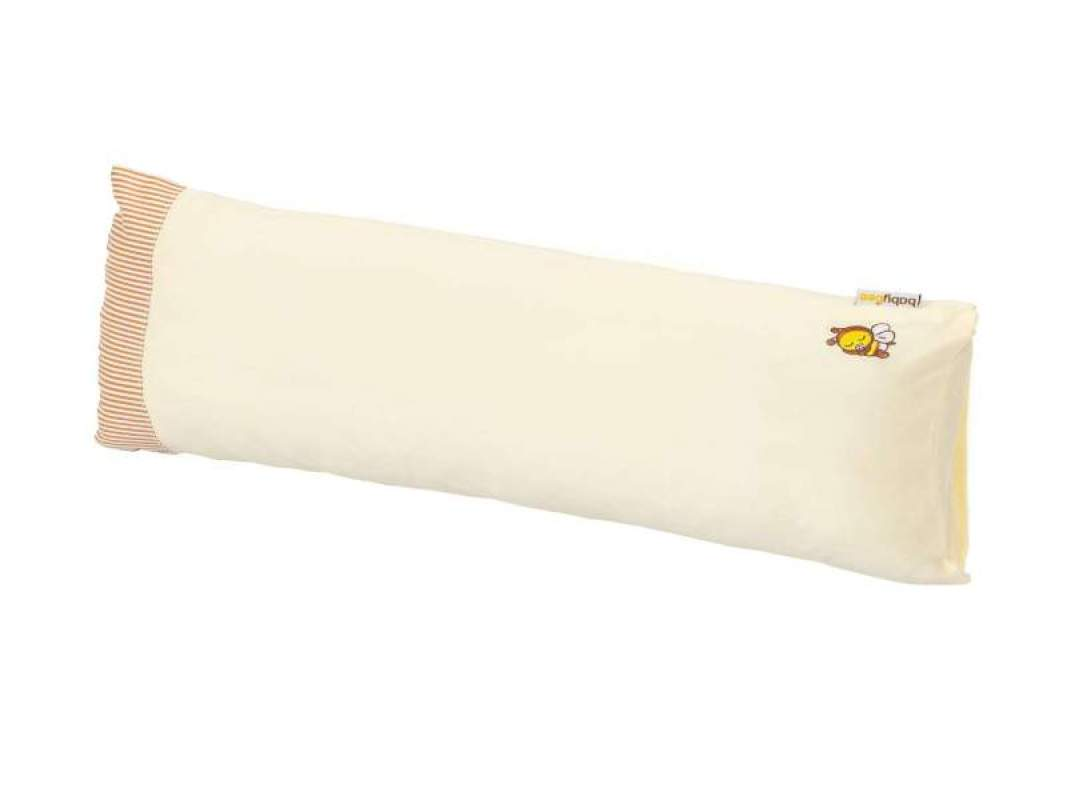bantal: (1, 120, 1024, 665)
